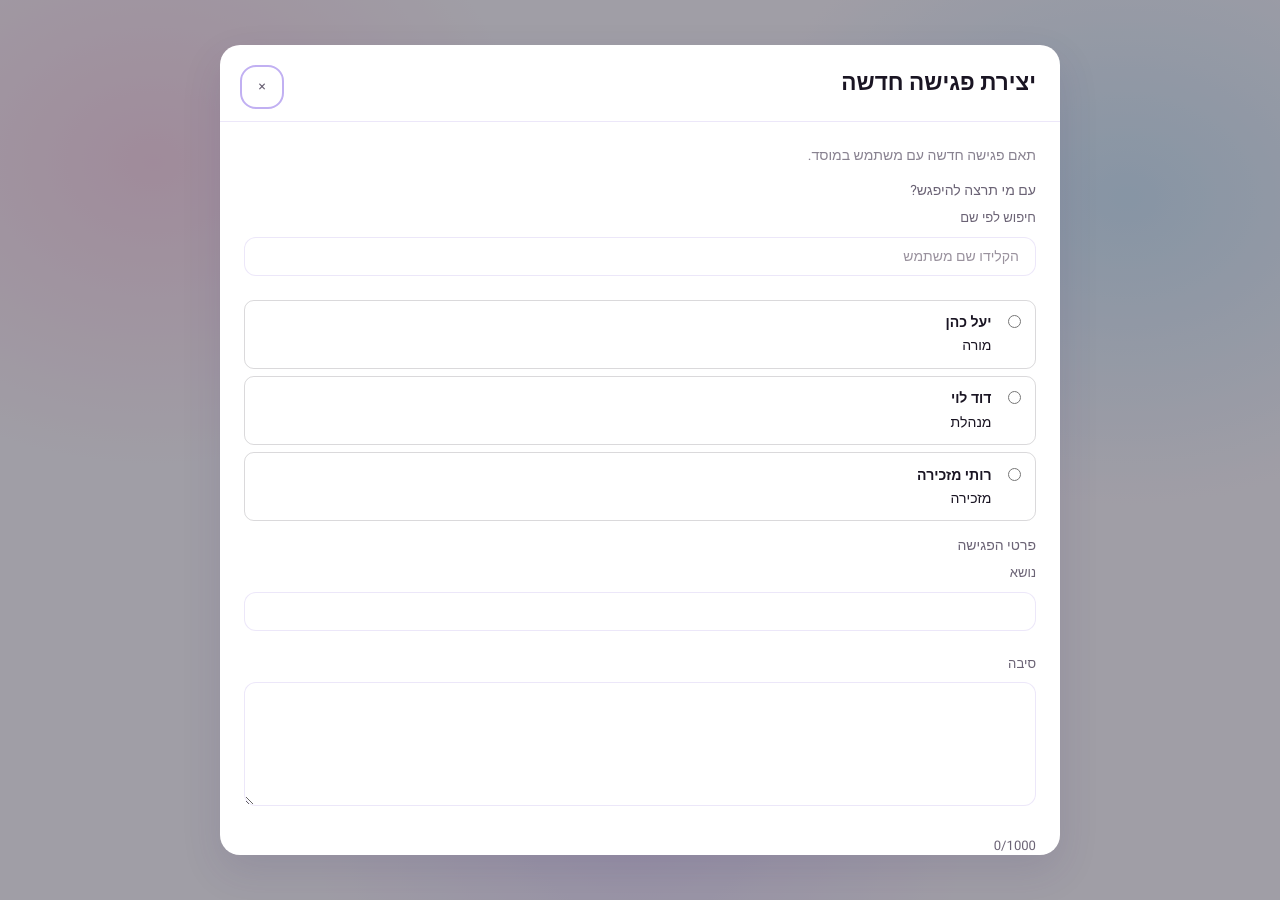
Test case: CreateMeetingModal UI › shows owner duration and invitation flow when deputy meets a secretary
The image size is (1280, 900).
Click the radio button labelled "רותי מזכירה מזכירה" at (1014, 474), box [1008, 468, 1021, 481]
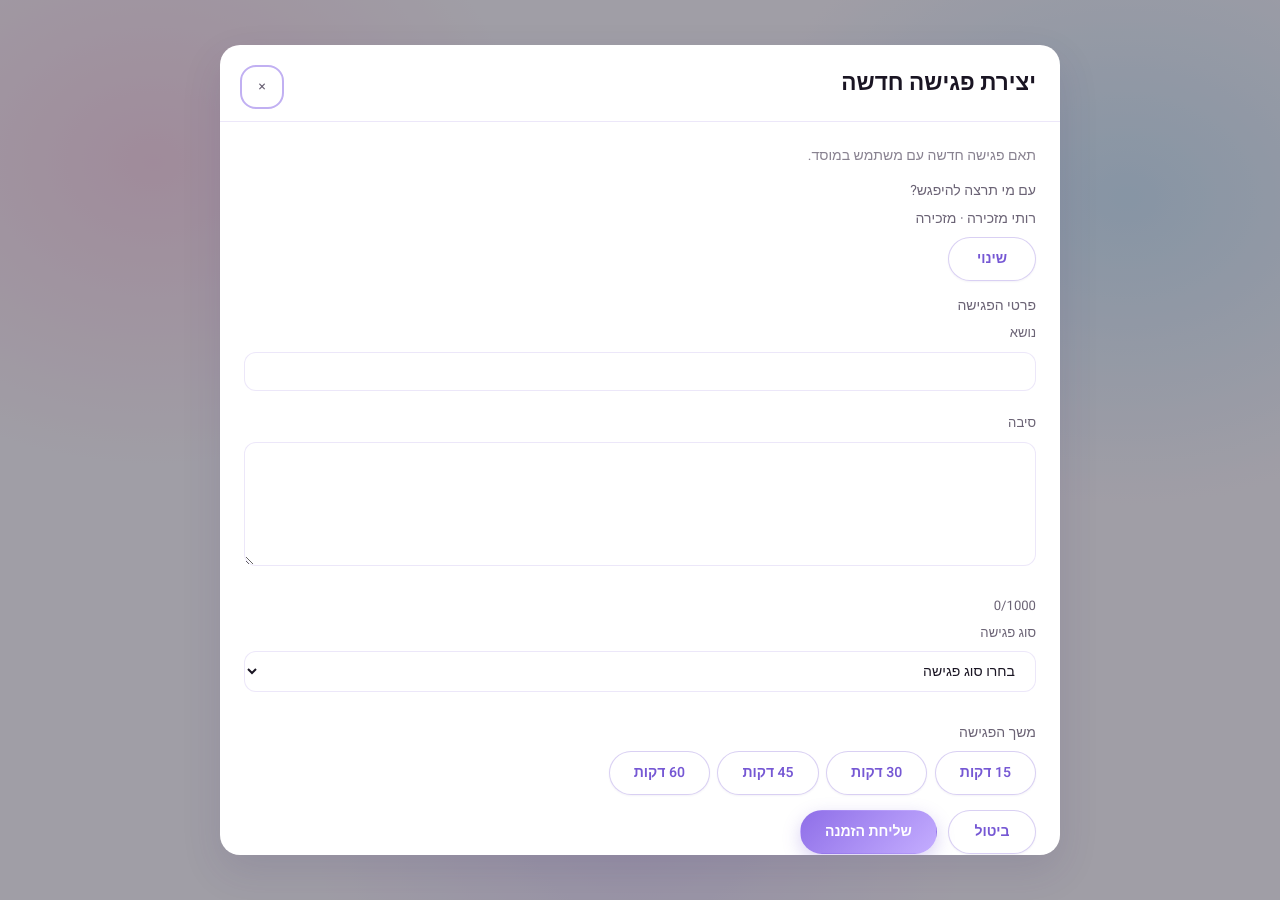
Expected: the element named "משך הפגישה בדקות" is shown, [609, 751, 1036, 795]
Expected: the button "שליחת הזמנה" is shown, [800, 810, 937, 854]
